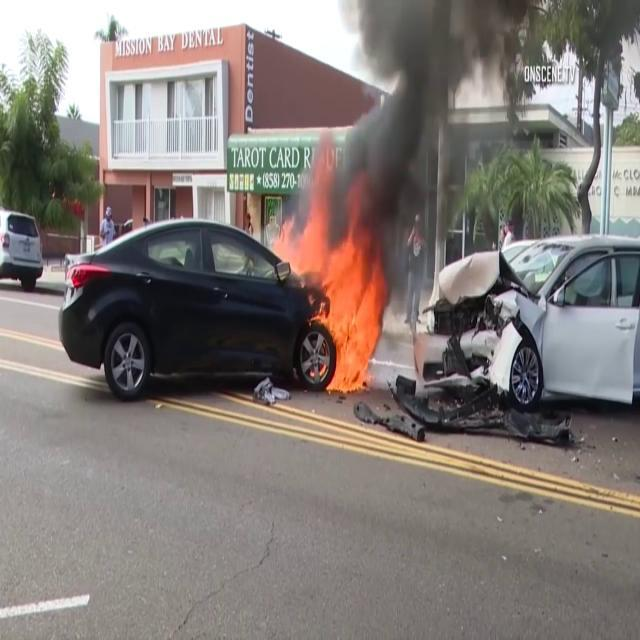Fire: (291, 215, 382, 399)
Smoke: (300, 6, 487, 269)
